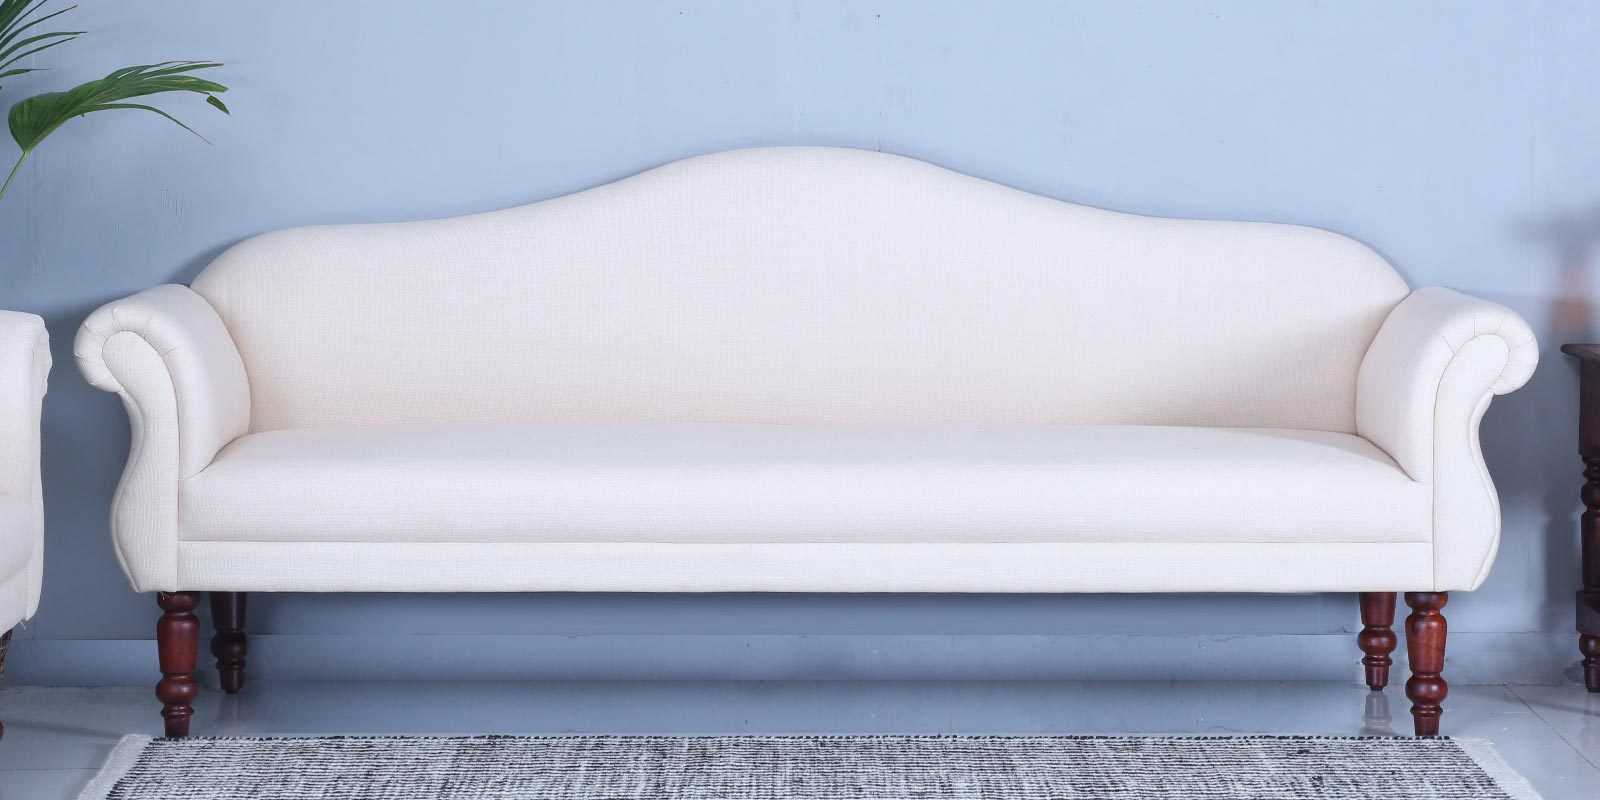Harleston Three Seater Sofa in Honey Oak Finish by Amberville: (52, 108, 1553, 789)
